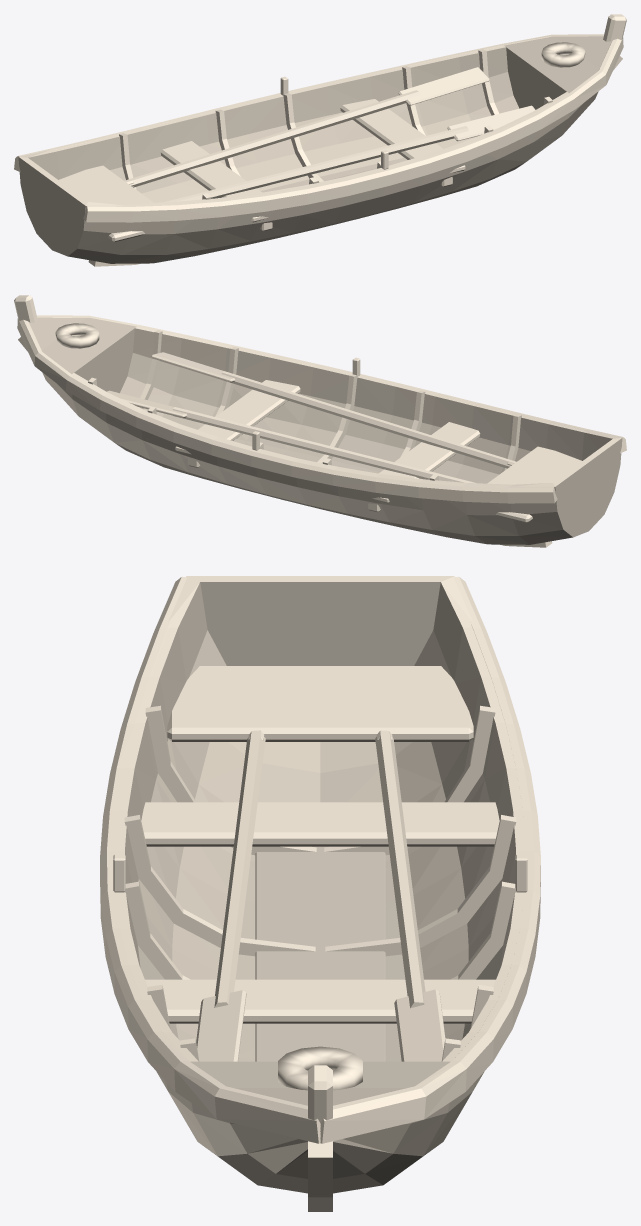
Rendered from SM_VK_Prop_Rowboat.fbx.
The picture shows the model from 3 angles, top to bottom: view 1: azimuth 30°, elevation 25°; view 2: azimuth 150°, elevation 25°; view 3: azimuth 270°, elevation 25°; orthographic projection. The views are drawn at different scales.
Visible parts, largest first — view 1: SM_VK_Prop_Rowboat.001; view 2: SM_VK_Prop_Rowboat.001; view 3: SM_VK_Prop_Rowboat.001.
Boxes of the visible parts, <box> form: SM_VK_Prop_Rowboat.001: <box>14,14,626,266</box>; SM_VK_Prop_Rowboat.001: <box>14,295,626,547</box>; SM_VK_Prop_Rowboat.001: <box>100,576,540,1211</box>.
Size of the model in its own units: 4.28 by 0.9315 by 1.42.
